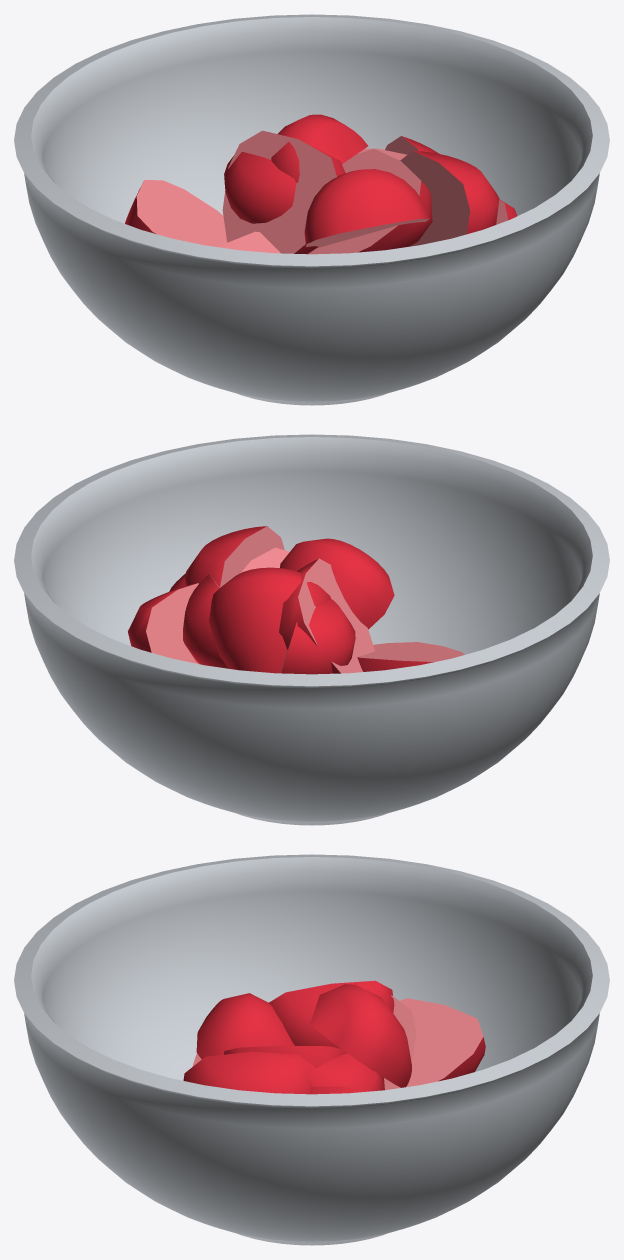
File: Strawberry_Bowl.fbx
The picture shows the model from 3 angles, top to bottom: view 1: azimuth 30°, elevation 25°; view 2: azimuth 150°, elevation 25°; view 3: azimuth 270°, elevation 25°; orthographic projection.
Visible parts, largest first — view 1: Strawberry_Bowl; view 2: Strawberry_Bowl; view 3: Strawberry_Bowl.
Boxes of the visible parts, <box> form: Strawberry_Bowl: <box>14,14,609,405</box>; Strawberry_Bowl: <box>14,434,609,825</box>; Strawberry_Bowl: <box>14,854,609,1245</box>.
Size of the model in its own units: 0.113 by 0.0462 by 0.113.
